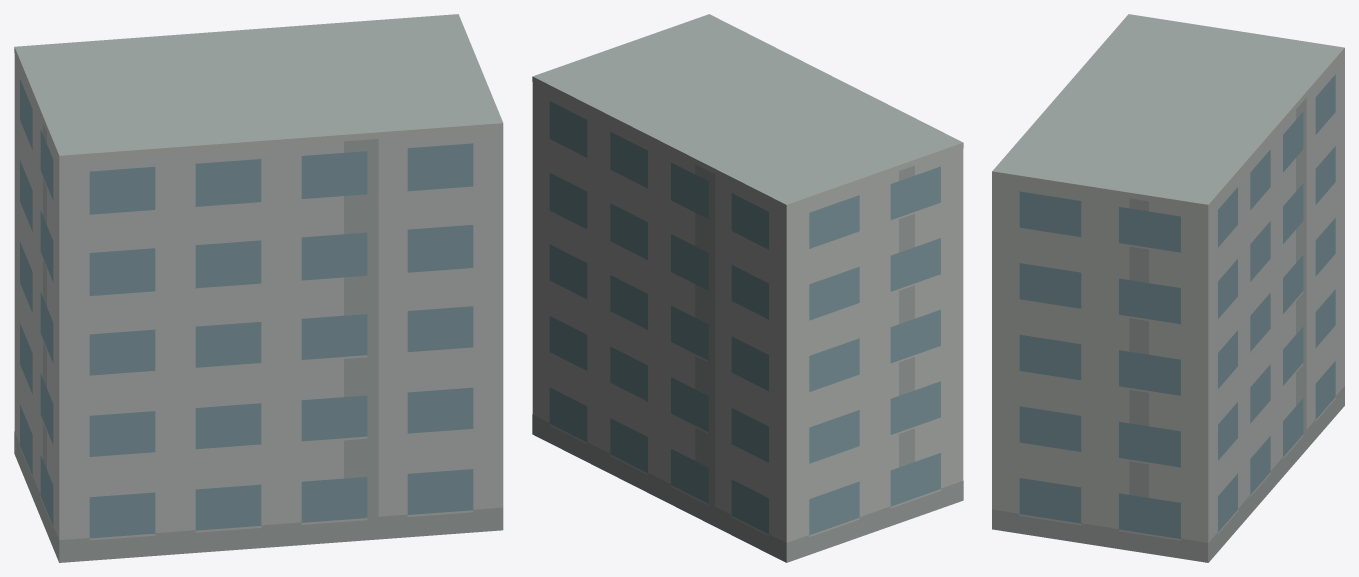
The model's file is residential-4f3a7ce5-165f-43f6-bd11-f2a91b2f3a3f.glb.
3 renders of one model, left to right at view 1: azimuth 30°, elevation 25°; view 2: azimuth 150°, elevation 25°; view 3: azimuth 270°, elevation 25°, orthographic. The views are drawn at different scales.
Visible parts, largest first — view 1: residential-4f3a7ce5-165f-43f6-bd11-f2a91b2f3a3f.tmp; view 2: residential-4f3a7ce5-165f-43f6-bd11-f2a91b2f3a3f.tmp; view 3: residential-4f3a7ce5-165f-43f6-bd11-f2a91b2f3a3f.tmp.
Boxes of the visible parts, x1=… form: residential-4f3a7ce5-165f-43f6-bd11-f2a91b2f3a3f.tmp: x1=14, y1=14, x2=503, y2=562; residential-4f3a7ce5-165f-43f6-bd11-f2a91b2f3a3f.tmp: x1=532, y1=14, x2=963, y2=562; residential-4f3a7ce5-165f-43f6-bd11-f2a91b2f3a3f.tmp: x1=992, y1=14, x2=1344, y2=562.
Bounding box in the file's own units: 17.44 × 15.25 × 13.63.
